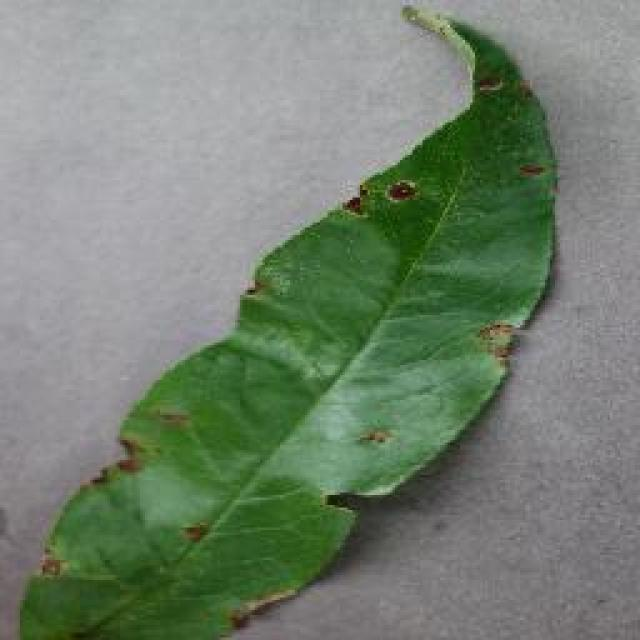Peach_Bacterial_Spot: (262, 128, 550, 618)
